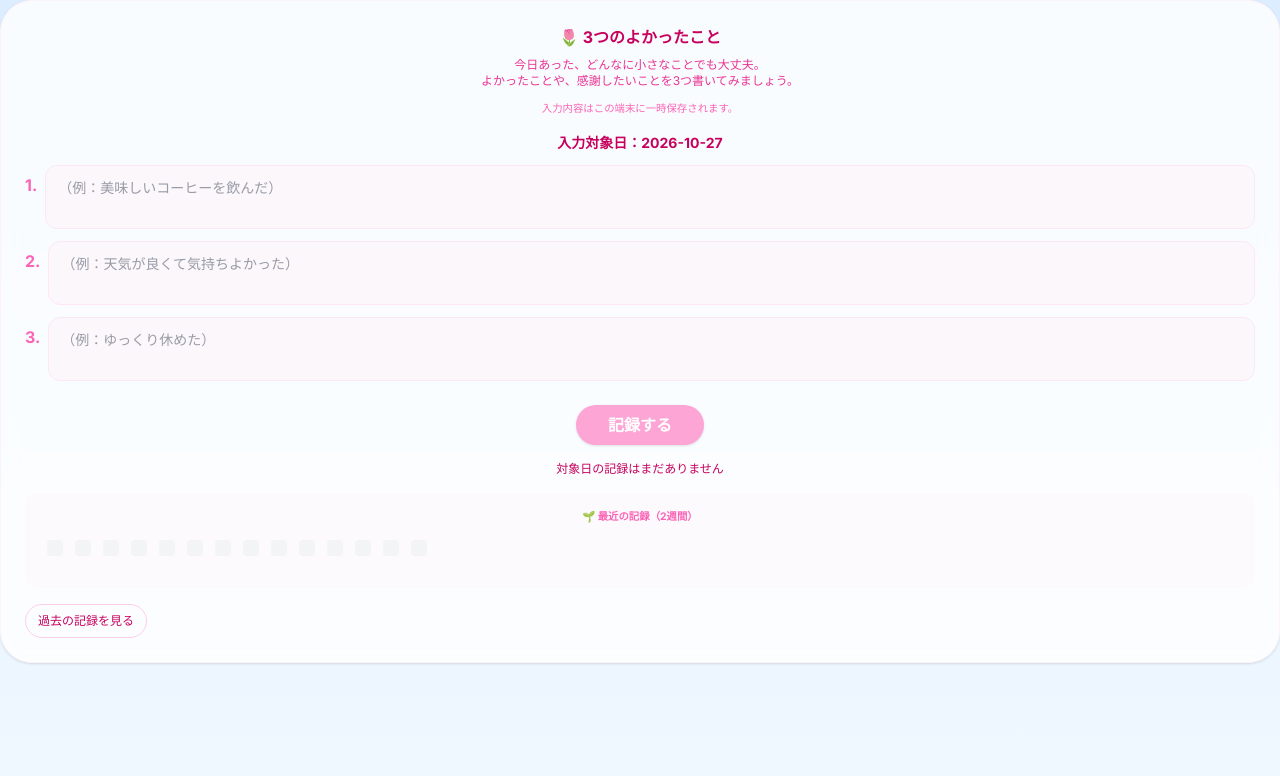
Test case: ThreeGoodThingsCard › 保存成功時に入力内容を保存して成功メッセージと詳細へ表示する
This screenshot has width=1280, height=776.
Type "朝の散歩が気持ちよかった" into the text box with placeholder "（例：美味しいコーヒーを飲んだ）" at (650,197), box [45,165,1255,229]
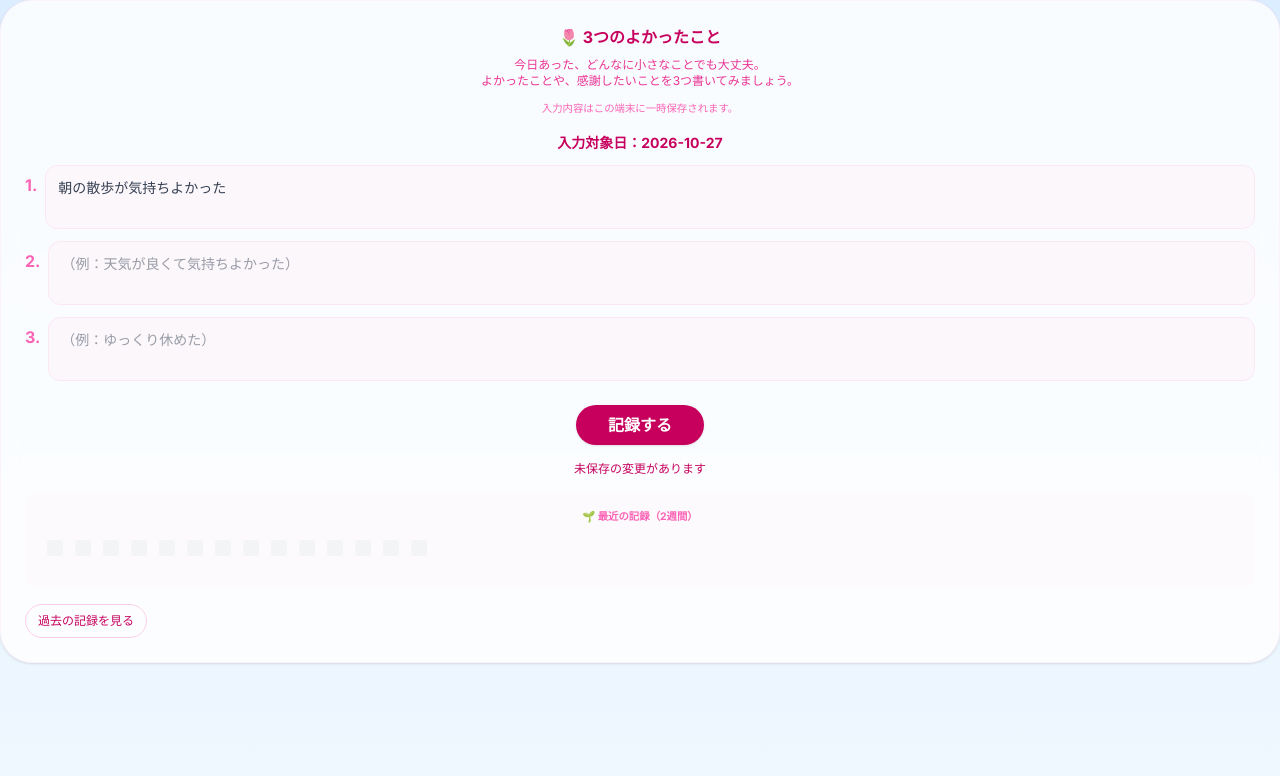
Type "お昼をおいしく食べた" into the text box with placeholder "（例：天気が良くて気持ちよかった）" at (652,273), box [48,241,1255,305]
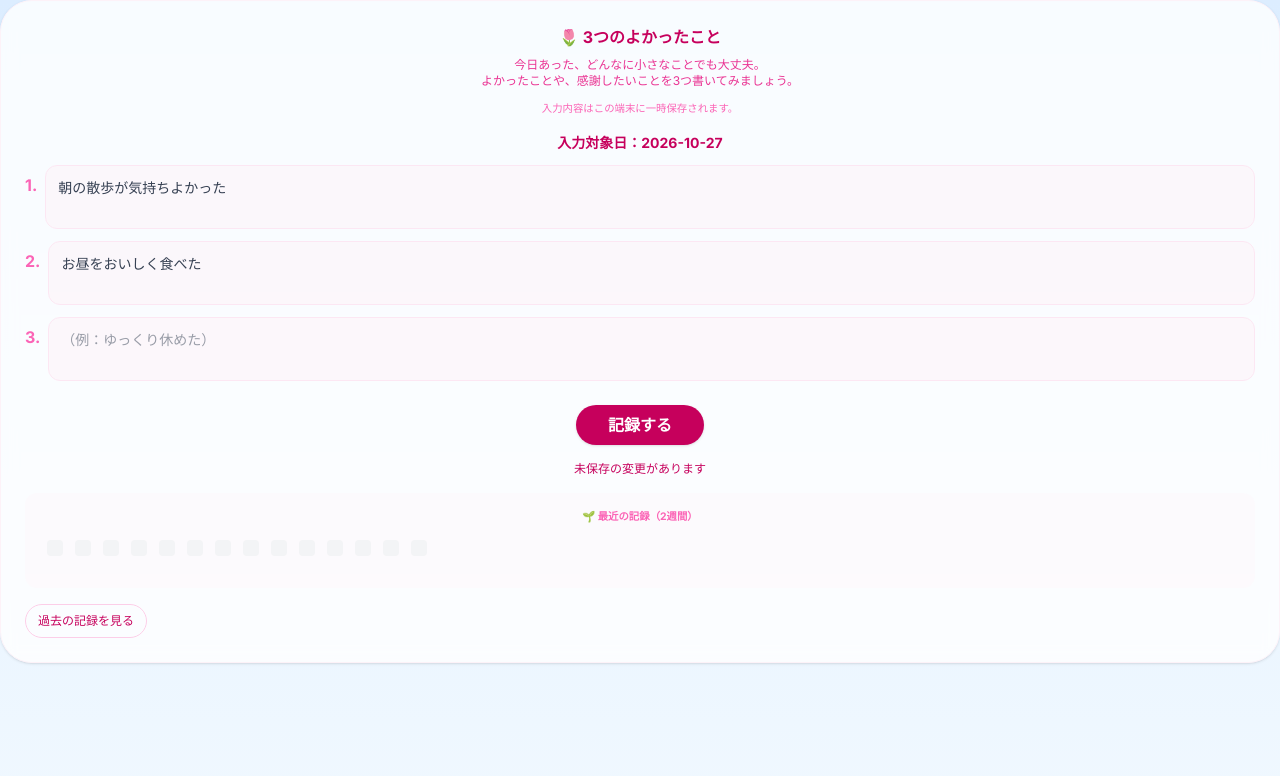
Type "読みたかった本を開けた" into the text box with placeholder "（例：ゆっくり休めた）" at (652,349), box [48,317,1255,381]
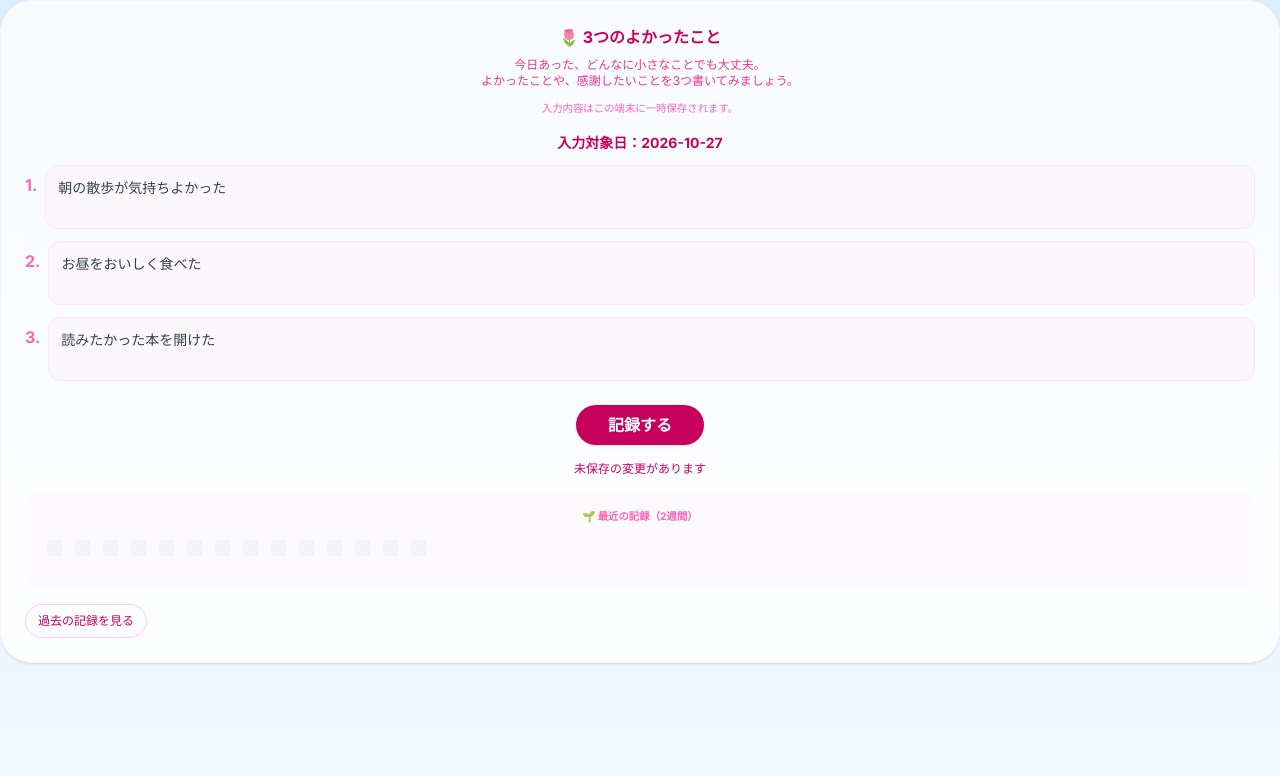
Click the button "記録する" at (640,425), box [576,405,704,445]
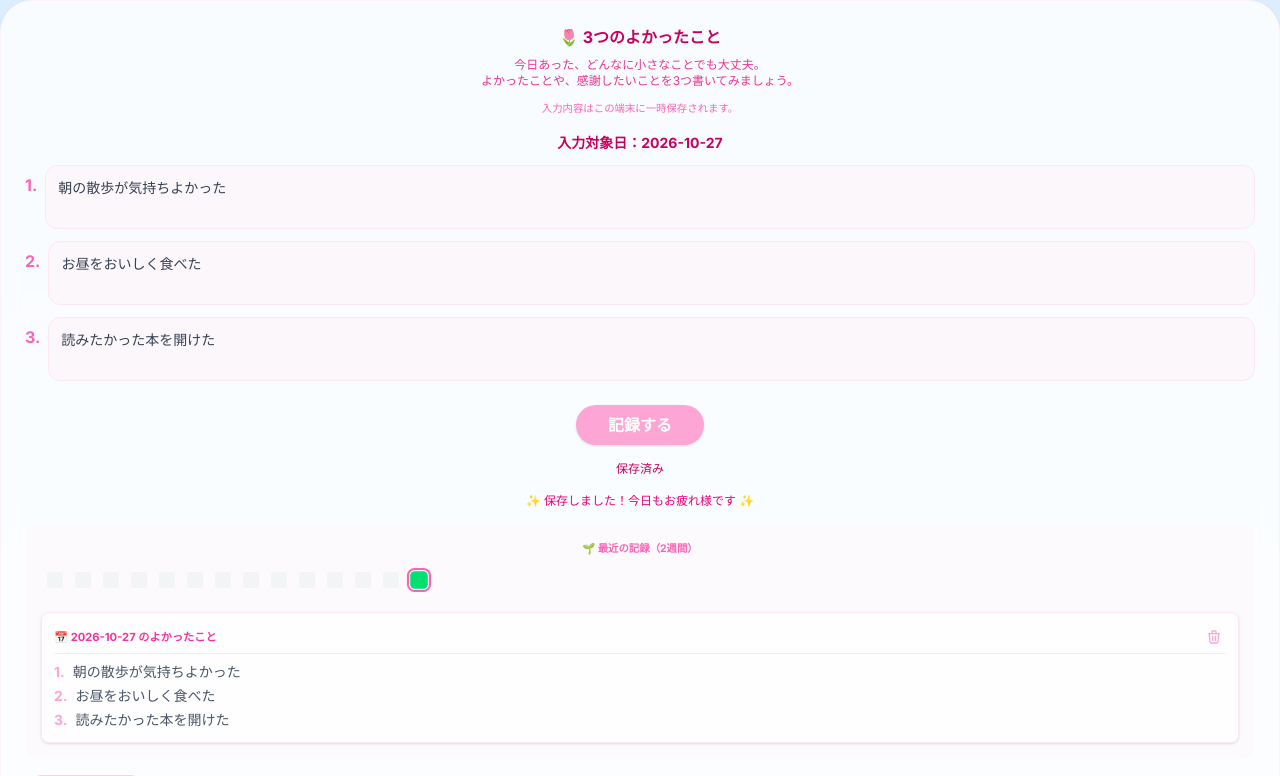
Expected: the text "✨ 保存しました！今日もお疲れ様です ✨" is shown, [526,493,754,509]
Expected: the number of list items is 3, [54,663,241,680]; [54,687,216,704]; [54,711,229,728]
Expected: the list item "1. 朝の散歩が気持ちよかった" is shown, [54,663,241,680]
